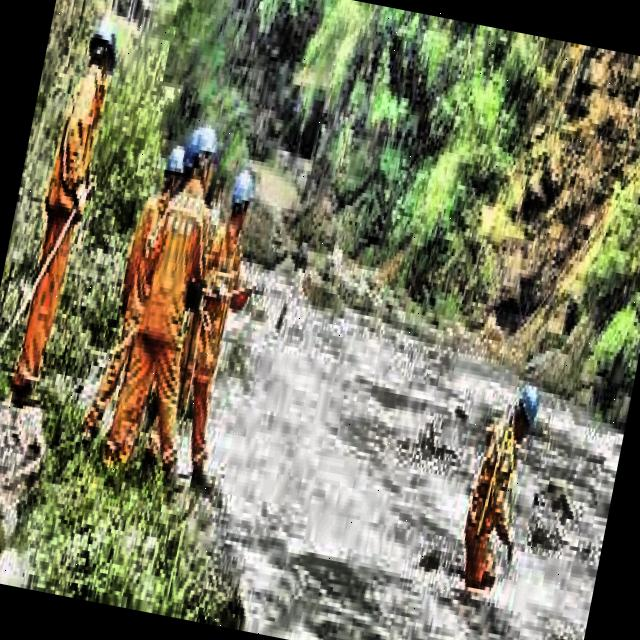helmet: (180, 114, 227, 194), (504, 372, 550, 452), (157, 133, 196, 219), (82, 15, 126, 91), (226, 154, 264, 240)
